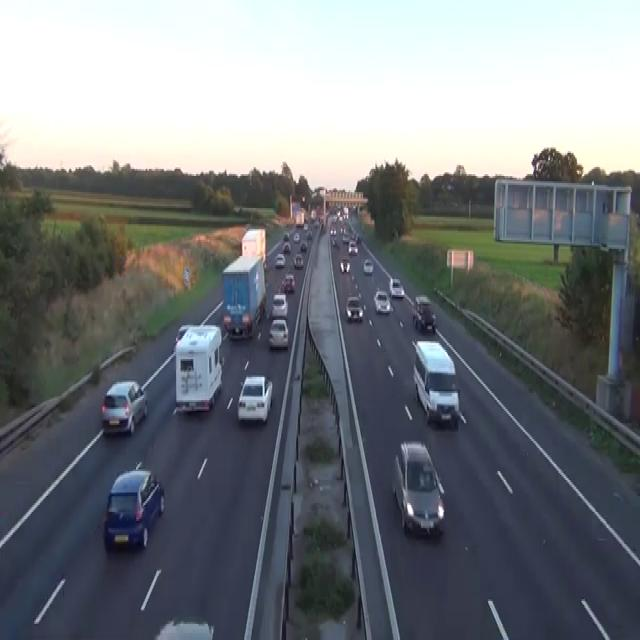Car: (103, 461, 164, 551), (392, 439, 445, 537), (101, 378, 147, 436), (237, 373, 272, 423), (153, 615, 214, 638), (223, 304, 252, 340), (412, 294, 436, 332), (268, 318, 288, 348), (345, 295, 363, 322), (173, 324, 190, 352), (270, 292, 288, 318), (373, 290, 392, 313), (414, 293, 431, 315), (389, 277, 404, 297), (282, 272, 295, 292), (177, 323, 190, 338), (363, 258, 373, 274), (340, 258, 350, 274), (293, 252, 303, 268), (274, 252, 285, 266), (348, 240, 358, 254), (278, 278, 285, 292), (282, 242, 291, 252), (331, 238, 339, 249), (342, 231, 350, 242), (300, 240, 307, 251), (233, 204, 241, 213), (293, 231, 299, 242), (330, 226, 336, 236), (355, 233, 361, 243), (446, 183, 454, 190), (283, 231, 289, 240), (306, 230, 312, 238), (313, 218, 319, 226), (303, 222, 308, 230), (263, 260, 267, 270), (450, 201, 457, 206), (441, 183, 445, 190)
Truck: (174, 323, 223, 412), (412, 338, 460, 428), (221, 252, 266, 340), (241, 228, 266, 268), (295, 208, 304, 226)
